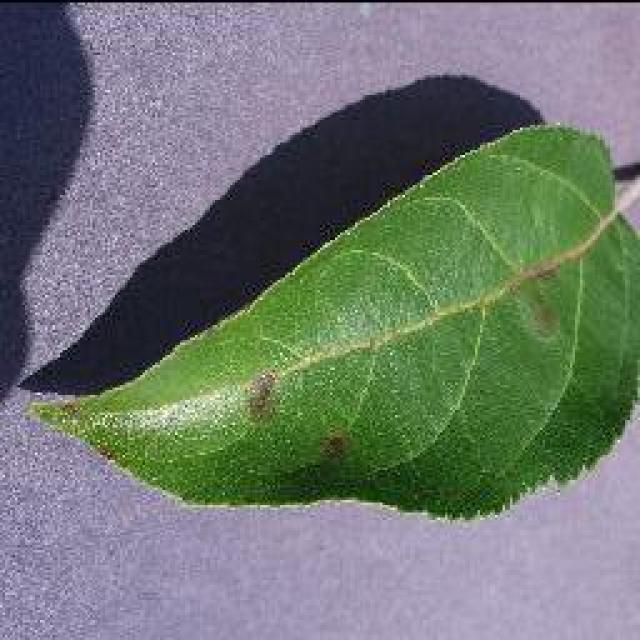Apple___Apple_scab: (20, 122, 637, 528)
